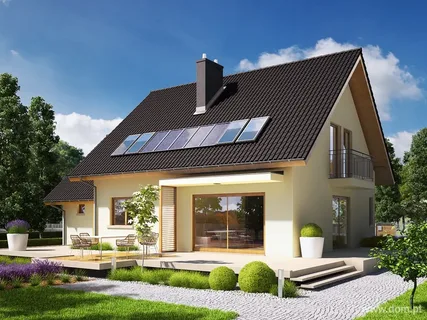private_hause: (63, 54, 385, 254)
